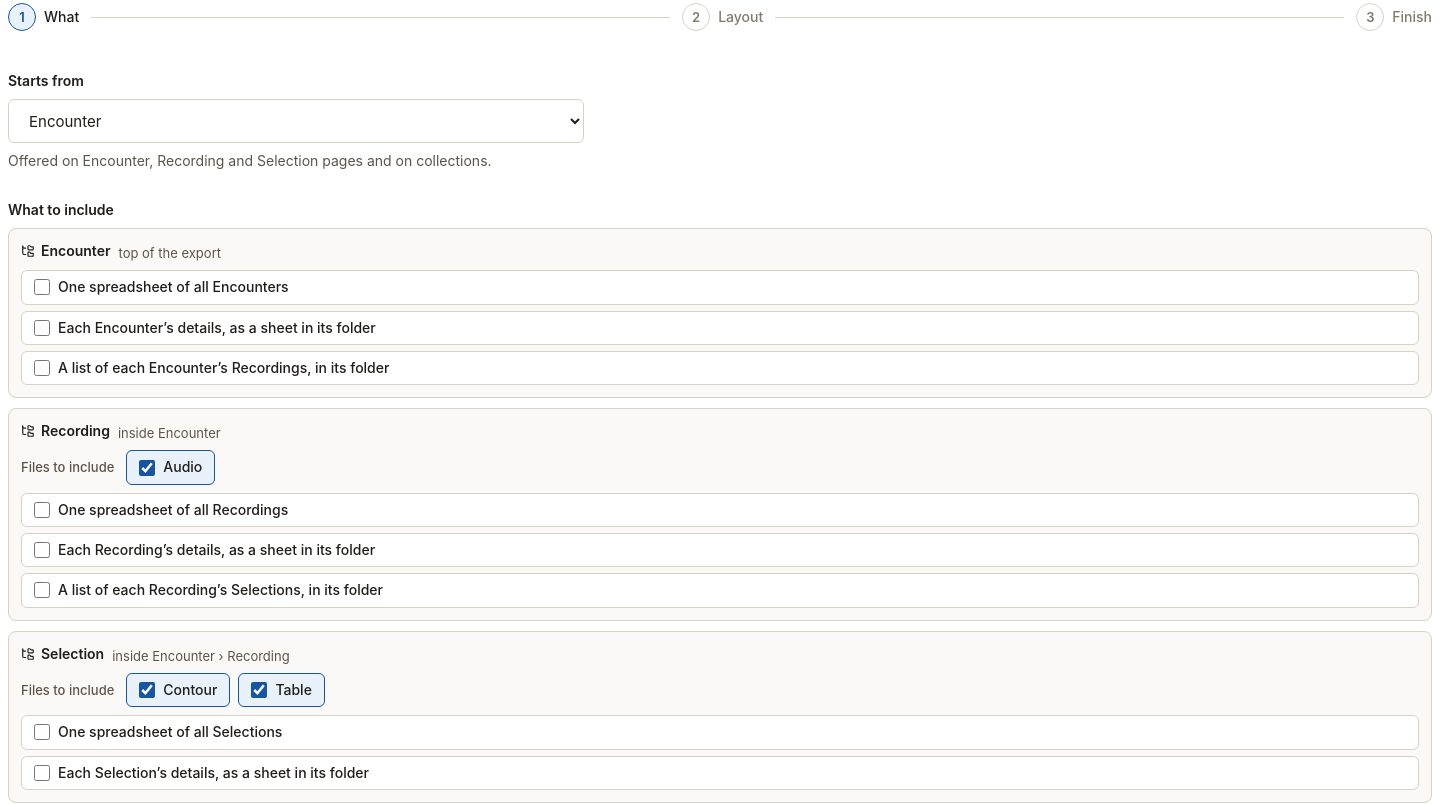
Test case: the export builder, step by step › asks for something to include when nothing is
Click the checkbox labelled "Audio".
click(147, 468)  # box [139,460,155,476]
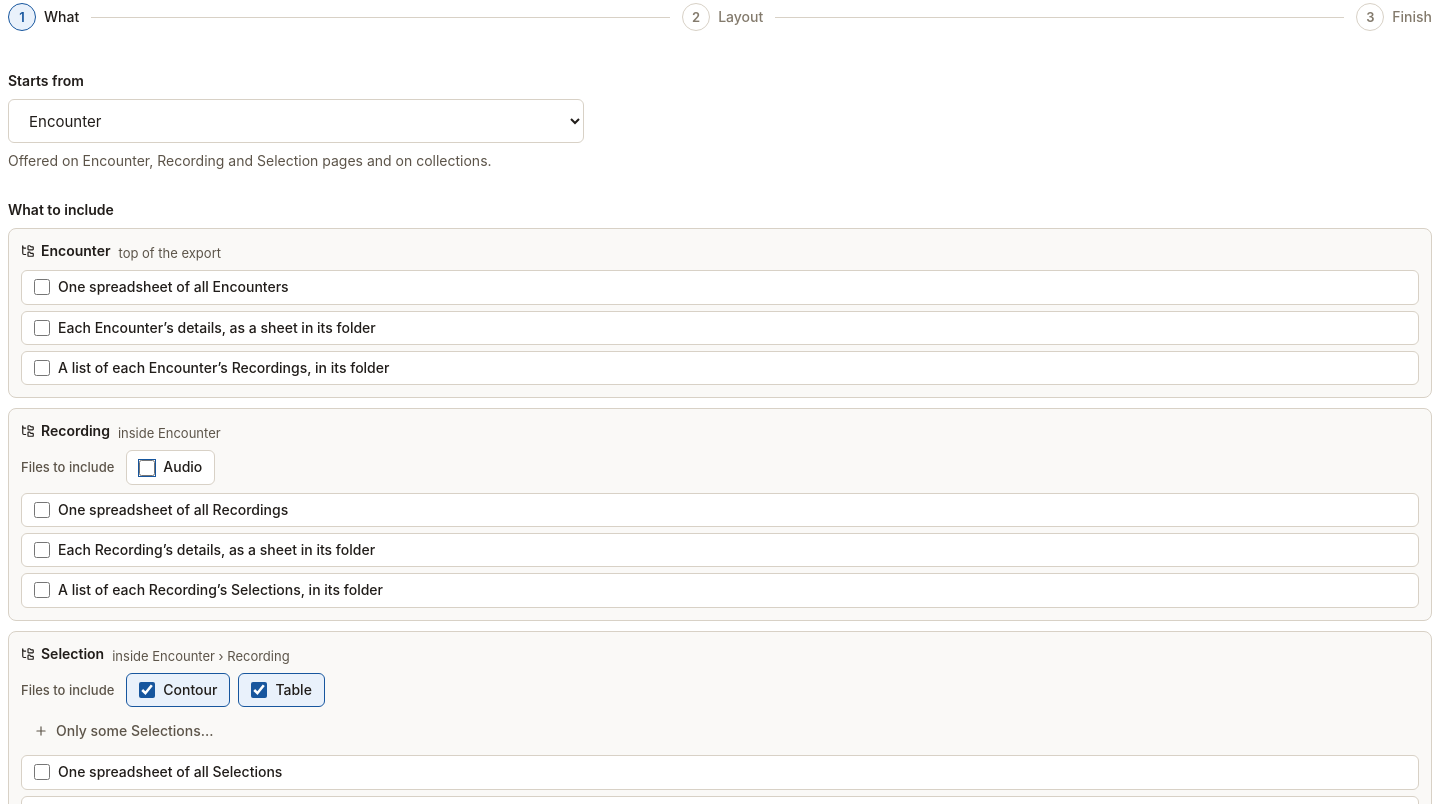
Click the checkbox labelled "Contour".
click(147, 690)  # box [139,682,155,698]
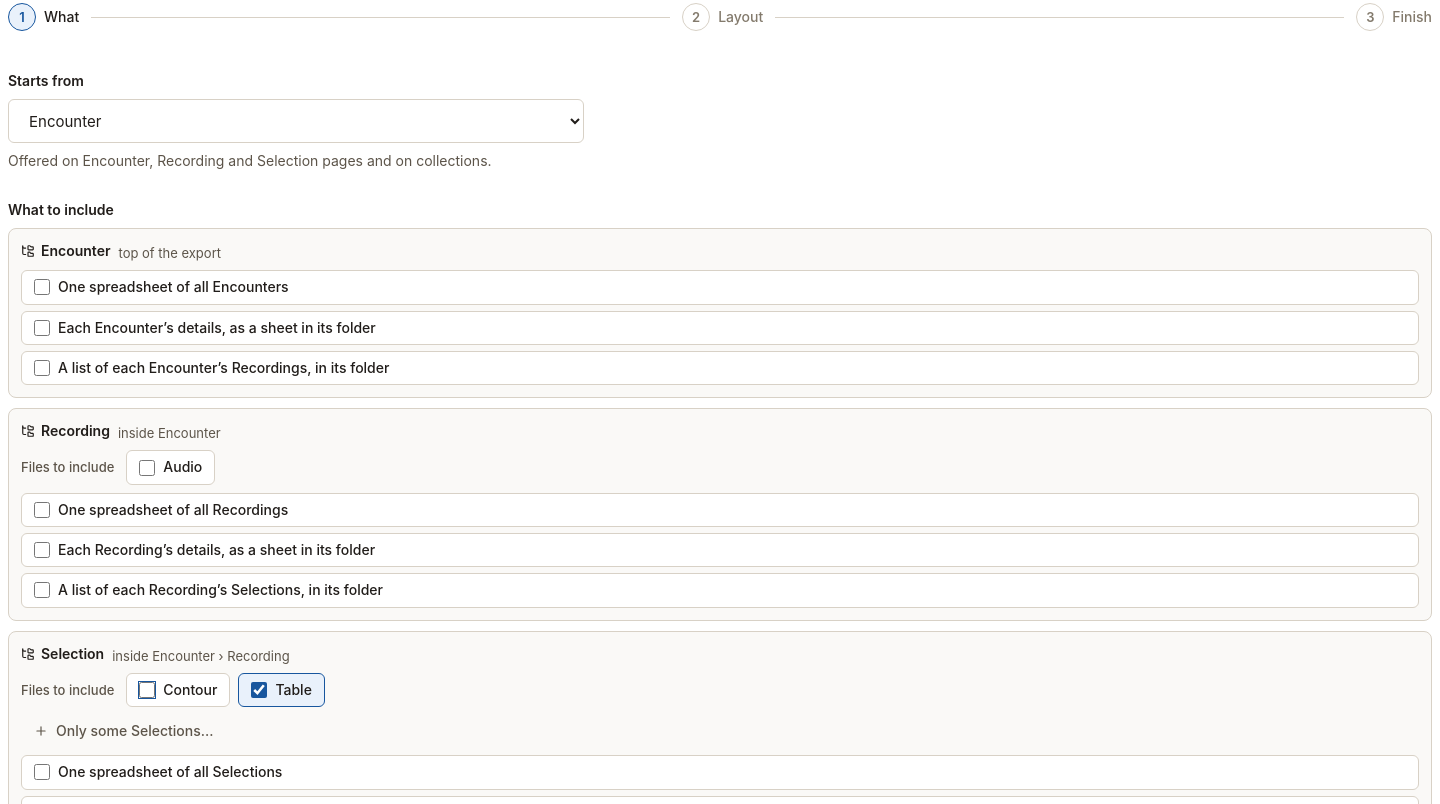
Click the checkbox labelled "Table".
click(259, 690)  # box [251,682,267,698]
(page scrolled)
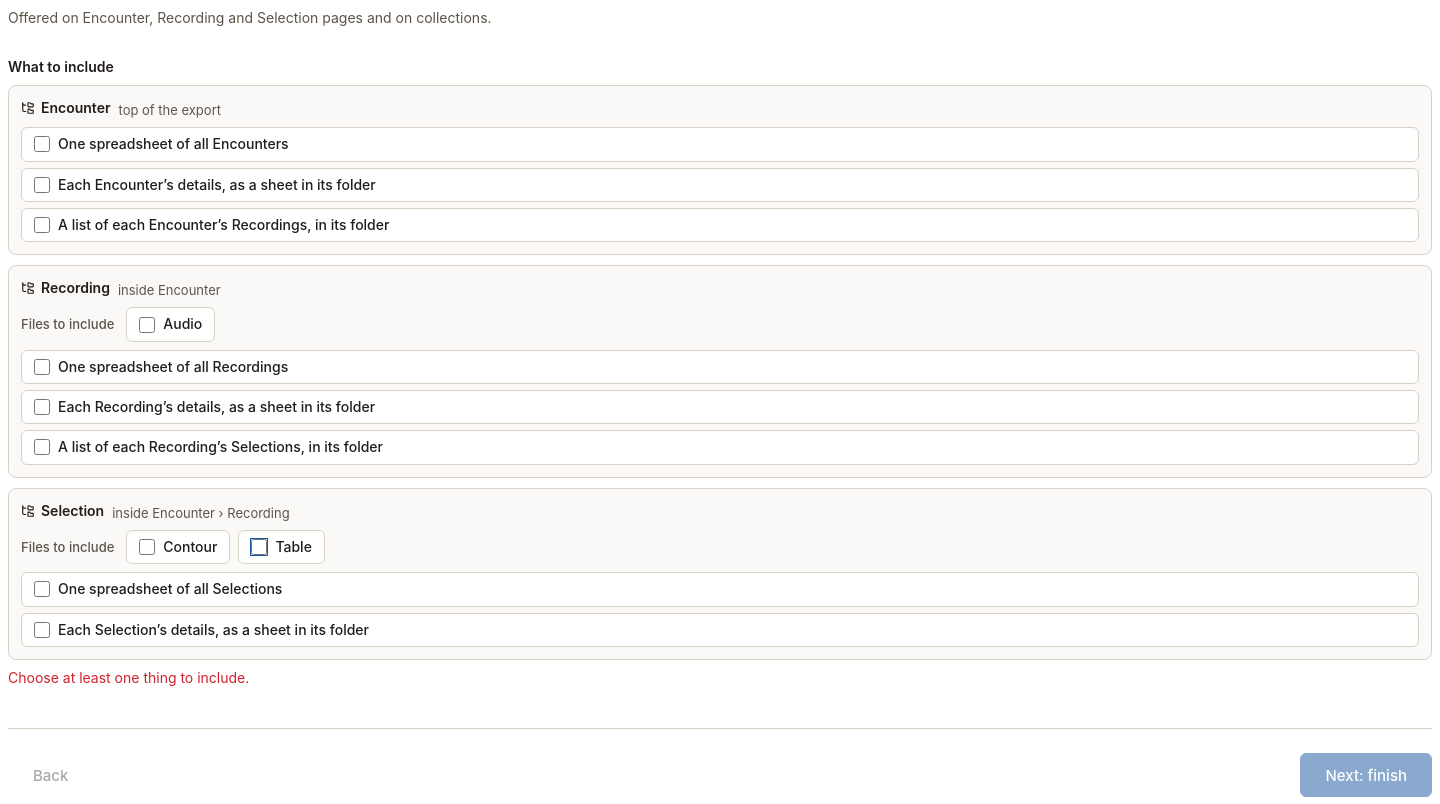
Now the text "Choose at least one thing to include." is shown, box [8,669,249,686]
Now the button "Next: finish" is disabled, box [1300,753,1432,797]
